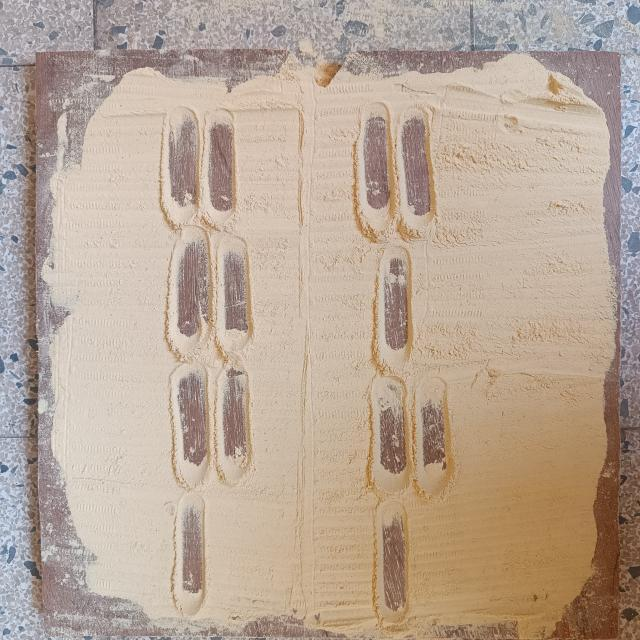double: (161, 229, 261, 365), (353, 99, 442, 241), (164, 360, 262, 488), (364, 378, 456, 498), (159, 100, 242, 230)
single: (368, 236, 418, 376), (368, 494, 417, 628), (166, 486, 212, 616)
